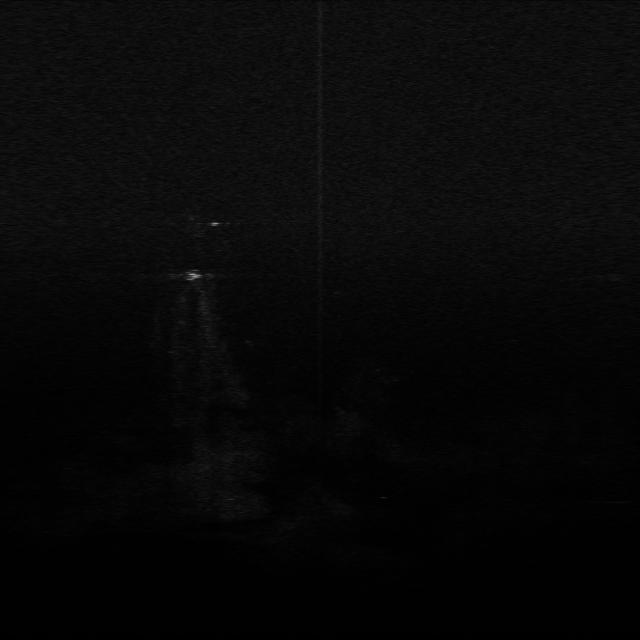rov: (181, 268, 207, 285)
